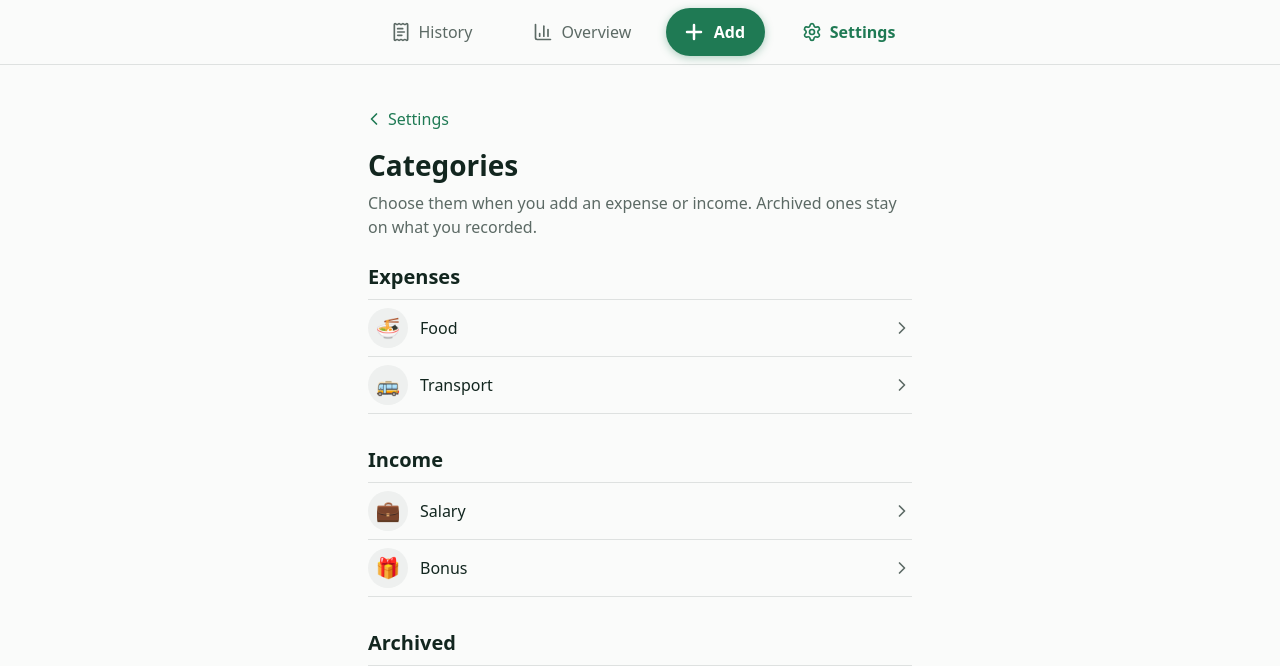
Categories › archives an active category
Click the button "🚌 Transport": (388, 385) [368,357,912,413]
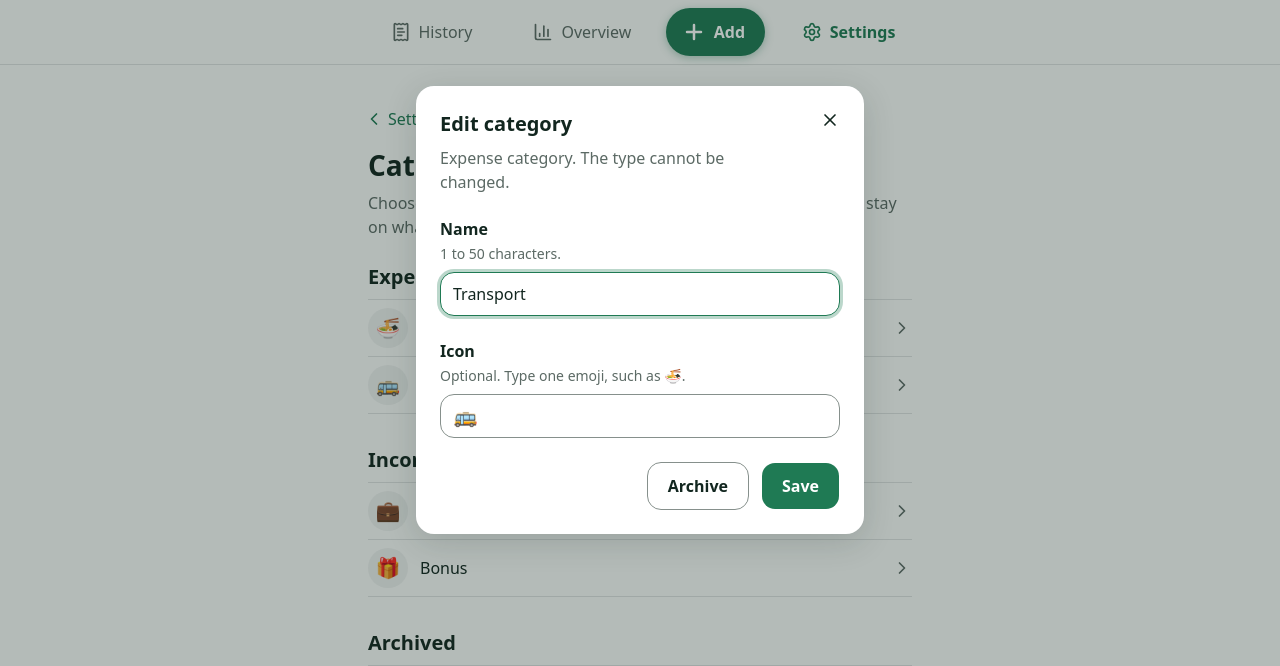
Click the button "Archive": (698, 486) [647,462,749,510]
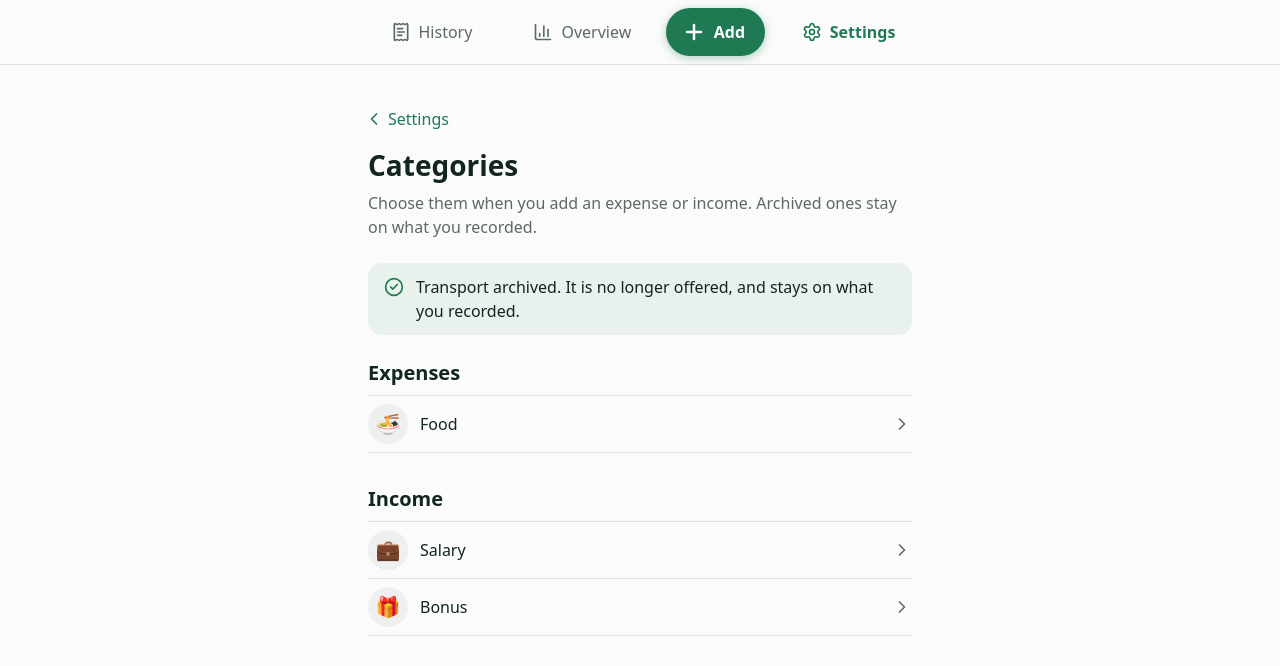
Expected: the message shows "Transport archived.", [416,276,873,322]
